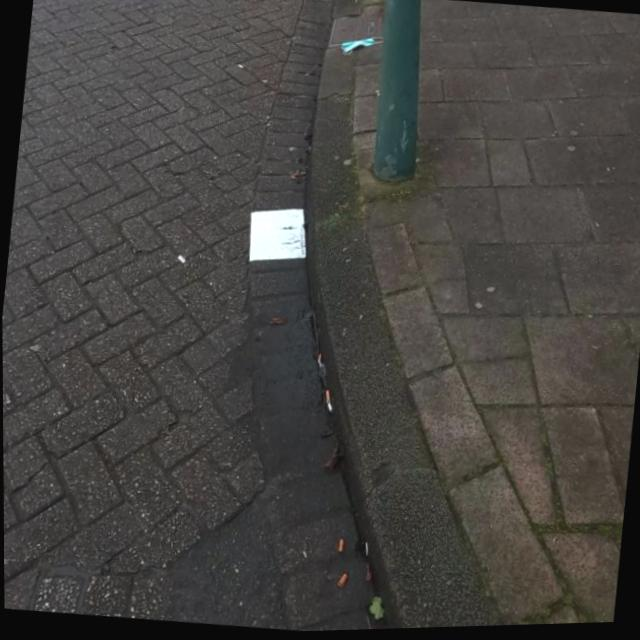Mask: (334, 26, 377, 63)
